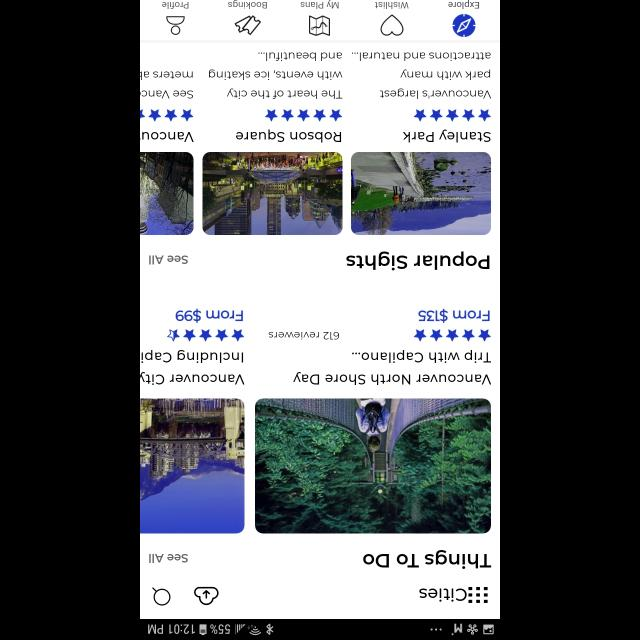icon: (168, 328, 245, 342), (264, 109, 342, 121), (414, 109, 491, 121), (414, 330, 491, 342), (140, 109, 193, 121), (452, 15, 476, 38), (235, 15, 261, 35), (381, 14, 404, 36), (194, 586, 218, 604), (308, 16, 329, 36), (167, 16, 186, 34), (152, 587, 170, 605), (468, 586, 488, 602)
image: (255, 398, 491, 534), (140, 398, 244, 534), (202, 152, 342, 235), (350, 152, 490, 235), (140, 152, 193, 235)
text: (293, 350, 491, 384), (352, 52, 491, 100), (208, 52, 342, 100), (140, 350, 244, 384), (346, 251, 489, 271), (363, 550, 491, 568), (140, 71, 193, 99), (236, 130, 340, 142), (418, 308, 490, 324), (402, 130, 490, 142), (175, 309, 242, 323), (418, 588, 466, 602), (268, 331, 339, 339), (140, 132, 194, 142), (148, 553, 188, 563), (228, 0, 268, 10), (301, 0, 340, 9), (148, 256, 188, 264), (448, 0, 479, 10), (375, 2, 409, 10), (162, 2, 188, 10)
uppertaskbar: (140, 618, 500, 640)
